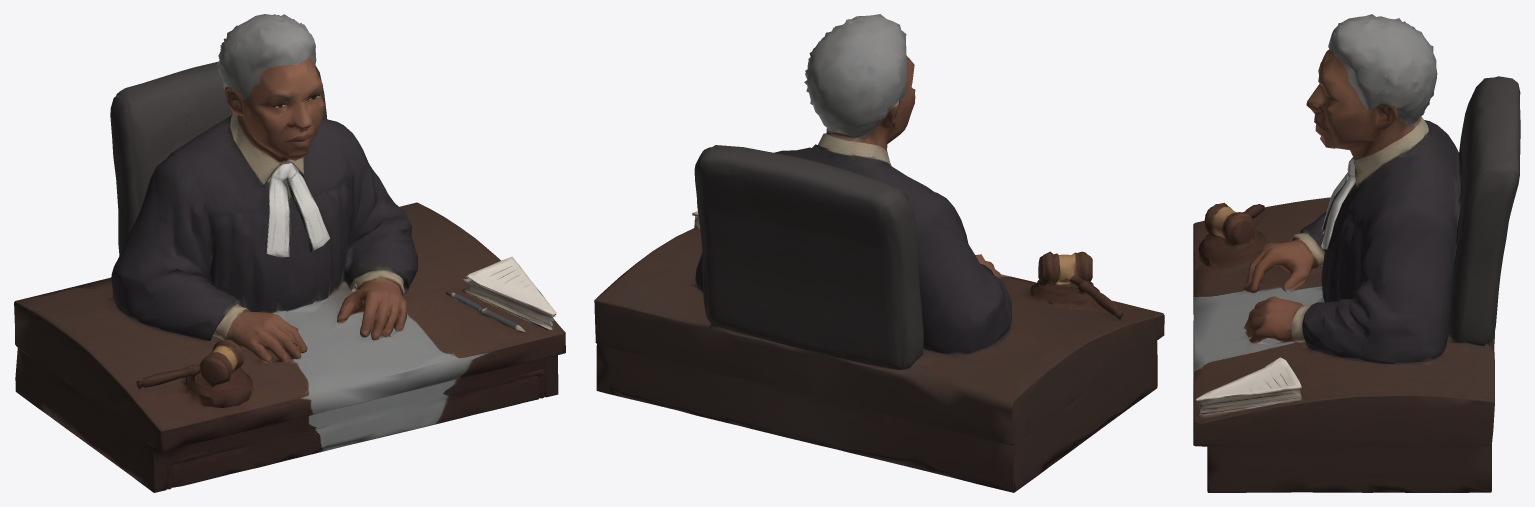
File: judge_2.glb
3 views of the same model, side by side, from view 1: azimuth 30°, elevation 25°; view 2: azimuth 150°, elevation 25°; view 3: azimuth 270°, elevation 25° (orthographic). The views are drawn at different scales.
Parts seen in each view (by area): view 1: tripo_node_d84e27e5-8df6-4e42-9d83-45487ef459a9; view 2: tripo_node_d84e27e5-8df6-4e42-9d83-45487ef459a9; view 3: tripo_node_d84e27e5-8df6-4e42-9d83-45487ef459a9.
Part boxes in pixels (bbox=[...]): tripo_node_d84e27e5-8df6-4e42-9d83-45487ef459a9: bbox=[14, 14, 565, 492]; tripo_node_d84e27e5-8df6-4e42-9d83-45487ef459a9: bbox=[594, 14, 1164, 492]; tripo_node_d84e27e5-8df6-4e42-9d83-45487ef459a9: bbox=[1193, 14, 1520, 492].
Bounding box in the file's own units: 1 × 0.8606 × 0.6844.
Materials: 1 (1 with a texture image).
